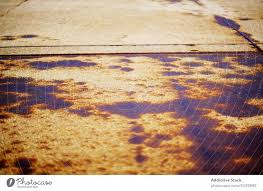rust: (182, 95, 262, 174), (2, 77, 71, 118), (81, 99, 218, 119), (29, 58, 96, 72), (162, 55, 184, 82), (205, 54, 228, 70), (239, 54, 263, 67), (18, 157, 32, 175)
